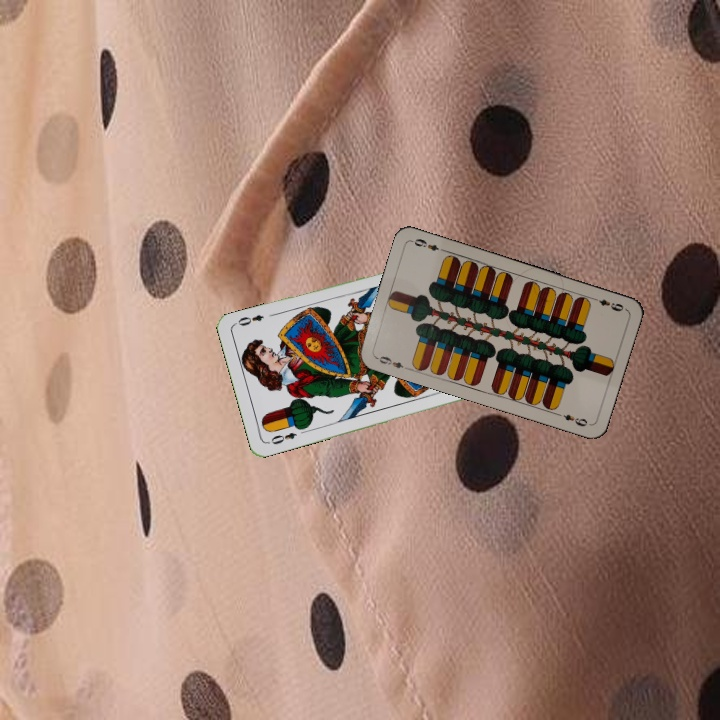E9: (372, 352, 411, 372), (588, 294, 626, 314)
EO: (267, 428, 299, 447)
